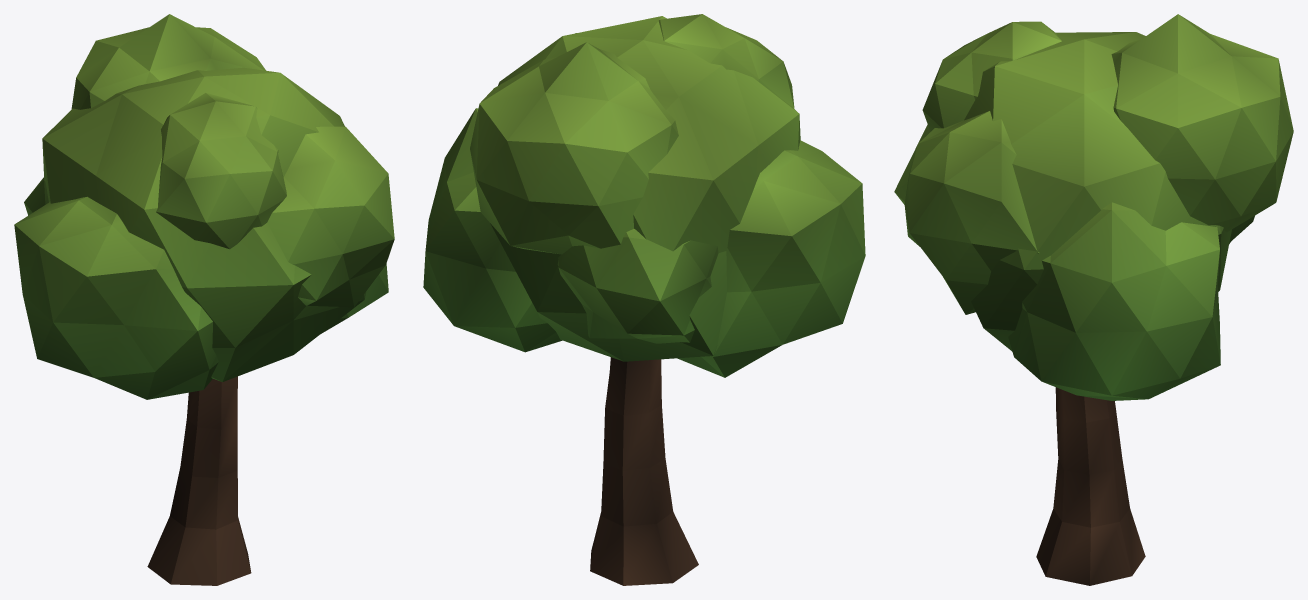
Rendered from oak.glb.
3 renders of one model, left to right at view 1: azimuth 30°, elevation 25°; view 2: azimuth 150°, elevation 25°; view 3: azimuth 270°, elevation 25°, orthographic. The views are drawn at different scales.
Parts seen in each view (by area): view 1: oak; view 2: oak; view 3: oak.
Part boxes in pixels (x1=…): oak: x1=14, y1=14, x2=394, y2=585; oak: x1=423, y1=14, x2=865, y2=585; oak: x1=894, y1=14, x2=1293, y2=585.
Bounding box in the file's own units: 3.97 × 5.52 × 3.62.
